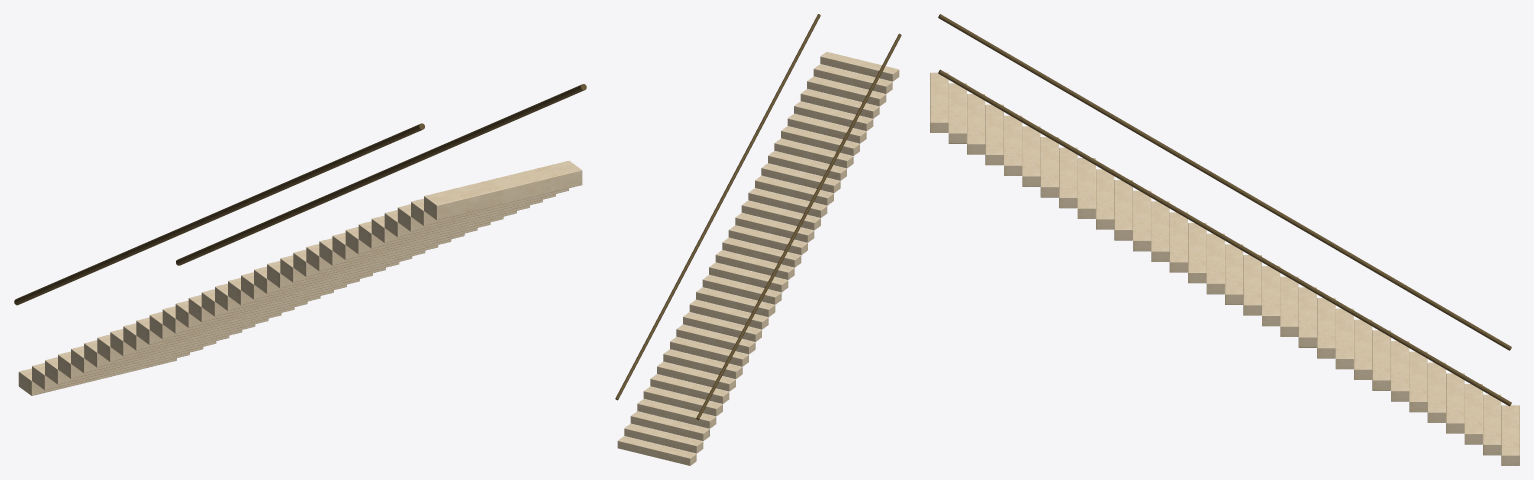
The model's file is explore3d__lower_stairway.glb.
3 views of the same model, side by side, from view 1: azimuth 30°, elevation 25°; view 2: azimuth 150°, elevation 25°; view 3: azimuth 270°, elevation 25° (orthographic). The views are drawn at different scales.
Visible parts, largest first — view 1: descending_step, descending_handrail.001, descending_handrail, descending_step.019, descending_step.021, descending_step.026, descending_step.002, descending_step.007, descending_step.012, descending_step.024, descending_step.003, descending_step.004 (+22 smaller); view 2: descending_handrail.001, descending_handrail, descending_step.029, descending_step.030, descending_step.031, descending_step.028, descending_step.001, descending_step.007, descending_step.014, descending_step.016, descending_step.018, descending_step.020 (+22 smaller); view 3: descending_handrail, descending_handrail.001, descending_step.031, descending_step.003, descending_step.015, descending_step.026, descending_step.022, descending_step.007, descending_step.011, descending_step.030, descending_step.029, descending_step.006 (+22 smaller).
Part boxes in pixels (x1,y1,x2,y2): descending_step: (424, 160, 582, 220); descending_handrail.001: (176, 84, 586, 265); descending_handrail: (14, 123, 424, 305); descending_step.019: (175, 290, 333, 327); descending_step.021: (149, 301, 307, 339); descending_step.026: (84, 330, 242, 367); descending_step.002: (397, 194, 555, 231); descending_step.007: (332, 222, 490, 259); descending_step.012: (267, 250, 425, 288); descending_step.024: (110, 318, 268, 356); descending_step.003: (384, 199, 542, 237); descending_step.004: (371, 205, 529, 242); descending_handrail.001: (615, 14, 820, 400); descending_handrail: (696, 33, 901, 419); descending_step.029: (630, 411, 709, 440); descending_step.030: (624, 423, 703, 453); descending_step.031: (617, 436, 696, 465); descending_step.028: (637, 399, 716, 428); descending_step.001: (813, 64, 892, 93); descending_step.007: (774, 138, 853, 168); descending_step.014: (728, 225, 807, 255); descending_step.016: (715, 250, 794, 279); descending_step.018: (702, 275, 781, 304); descending_step.020: (689, 299, 768, 329); descending_handrail: (938, 14, 1511, 350); descending_handrail.001: (938, 69, 1511, 406); descending_step.031: (1501, 405, 1519, 465); descending_step.003: (985, 104, 1003, 165); descending_step.015: (1206, 233, 1224, 294); descending_step.026: (1409, 351, 1427, 412); descending_step.022: (1335, 308, 1353, 369); descending_step.007: (1059, 147, 1077, 208); descending_step.011: (1133, 190, 1151, 251); descending_step.030: (1483, 394, 1501, 455); descending_step.029: (1464, 384, 1482, 444); descending_step.006: (1040, 137, 1058, 197).
Bounding box in the file's own units: 2.07 × 6.69 × 8.96.
2 materials, 2 textured.
